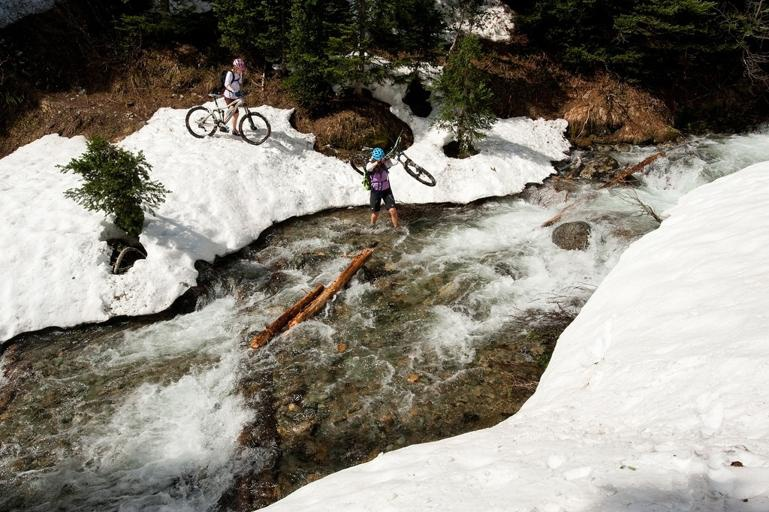non-vehicle: (350, 129, 435, 186), (185, 89, 270, 144)
